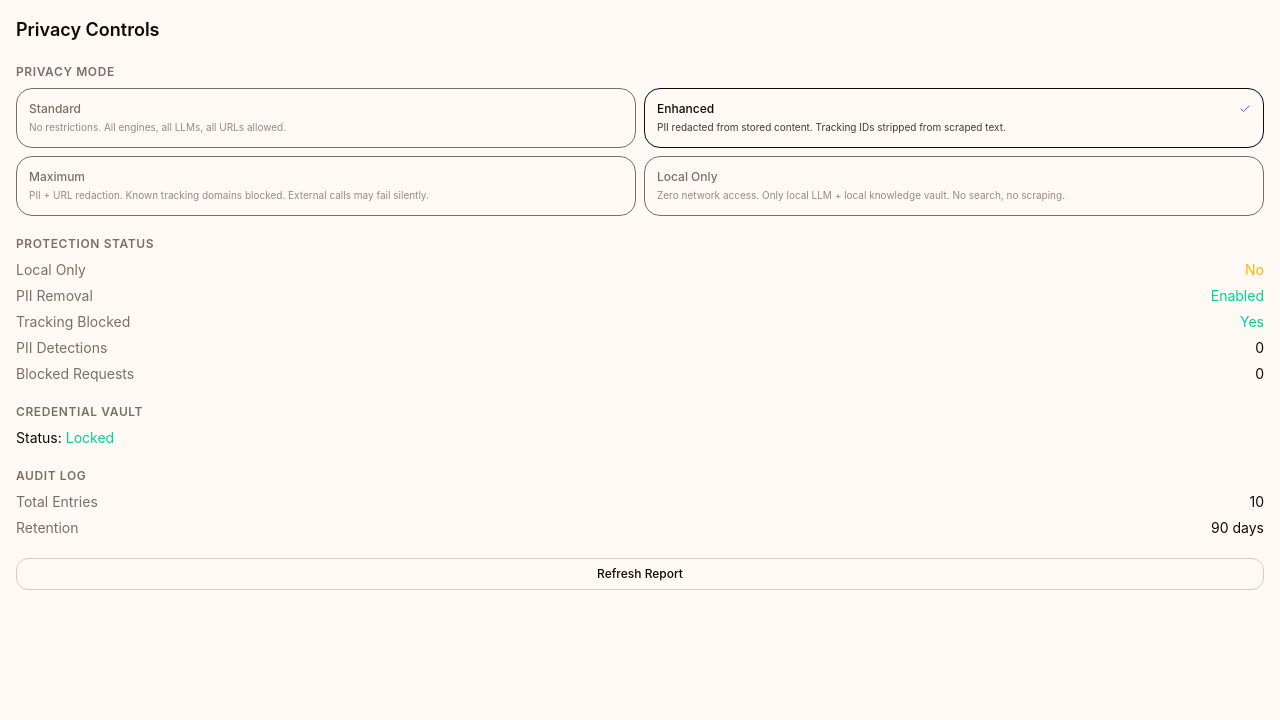
Test case: PrivacyControls › applies mode after confirmation
expect the heading "Privacy Controls" is shown: met, box [16,19,160,40]
// Click Maximum — it has a warning, so confirmation appears
Click the text "Maximum": (57, 177) [29,169,85,185]
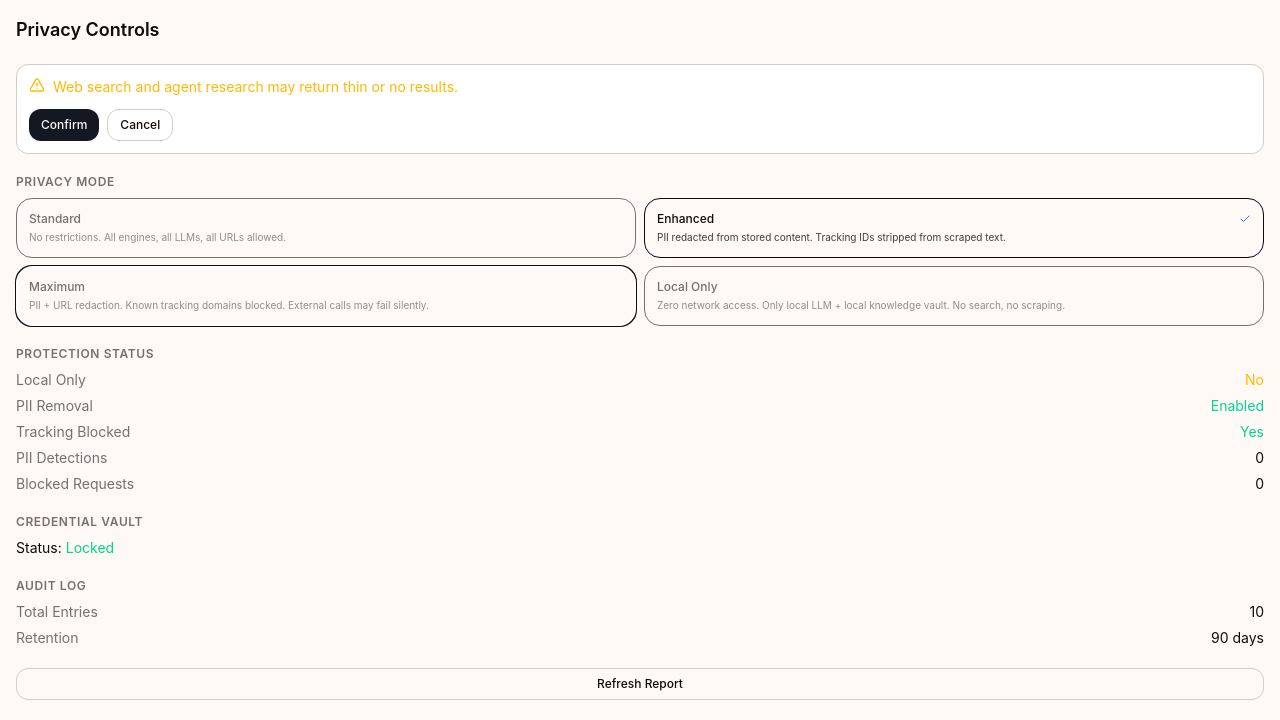
expect the button "Confirm" is shown: met
// Click Confirm — should call localFetch to set mode
Click the button "Confirm": (64, 125) [29,109,99,141]
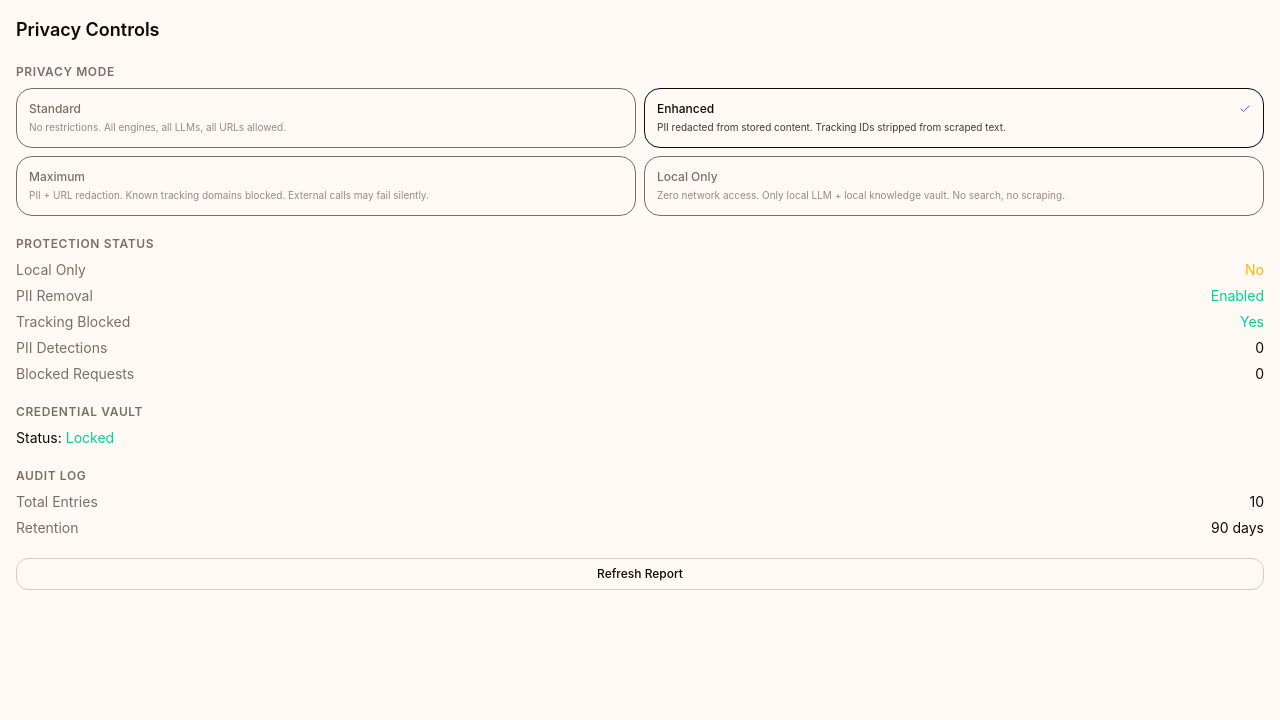
expect the button "Confirm" is gone: met
